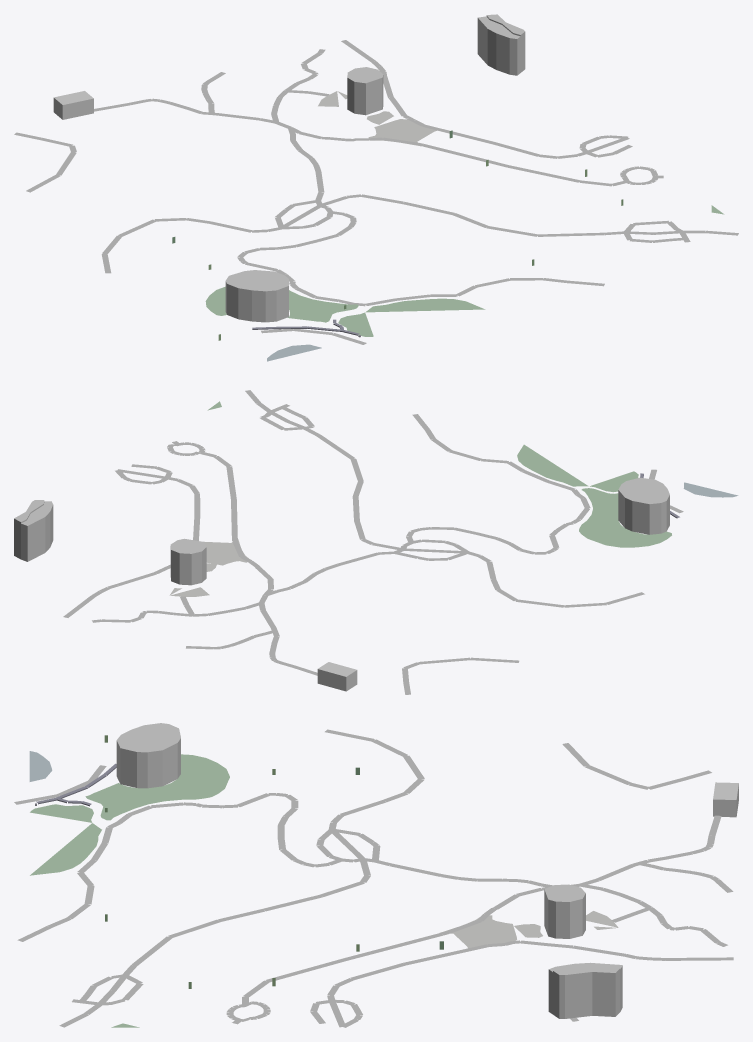
The picture shows the model from 3 angles, top to bottom: view 1: azimuth 30°, elevation 25°; view 2: azimuth 150°, elevation 25°; view 3: azimuth 270°, elevation 25°; orthographic projection. The views are drawn at different scales.
Bounding box in the file's own units: 508 × 41.88 × 519.
